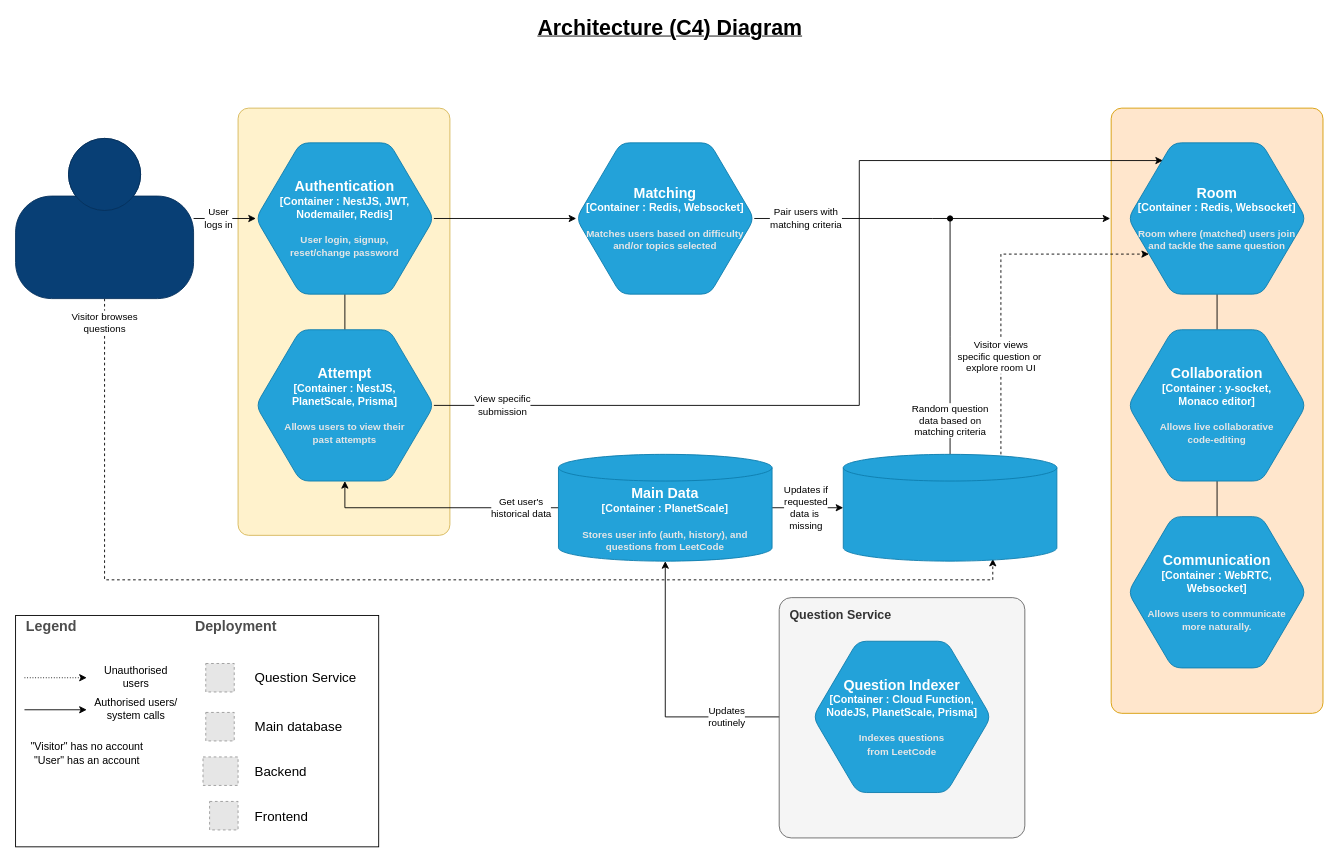
This 1339x862 diagram has some shape labels left out. Grey dashed boxes stand in for pictures. The shapes that lost their labels are listed below. From the top down, each one's box as (x1, y1, x2, y2) in pixels, then its label:
(15, 138, 194, 299): Visitor/User [Person] Visitor -> No account User -> Has account
(237, 107, 450, 535): User Service
(1110, 107, 1323, 713): Room Service
(842, 453, 1057, 561): Cache [Container : Redis] Store temporary or frequently accessed data
